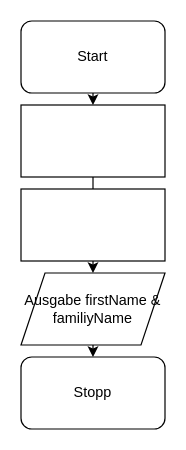
Some shapes in this 186 by 450 pixel diagram are drawn without their labels. The centre of each missing label's shape, as x and y in pixels:
fanmilyName = "Weber": (92,224)
firstName = "Mathias": (92,140)
